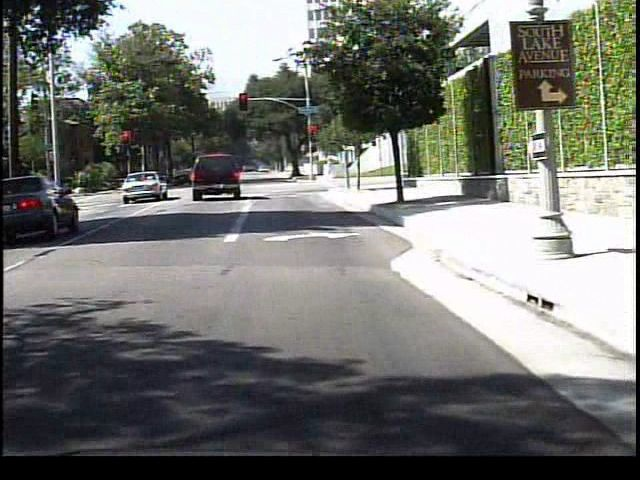person: (321, 156, 337, 184)
